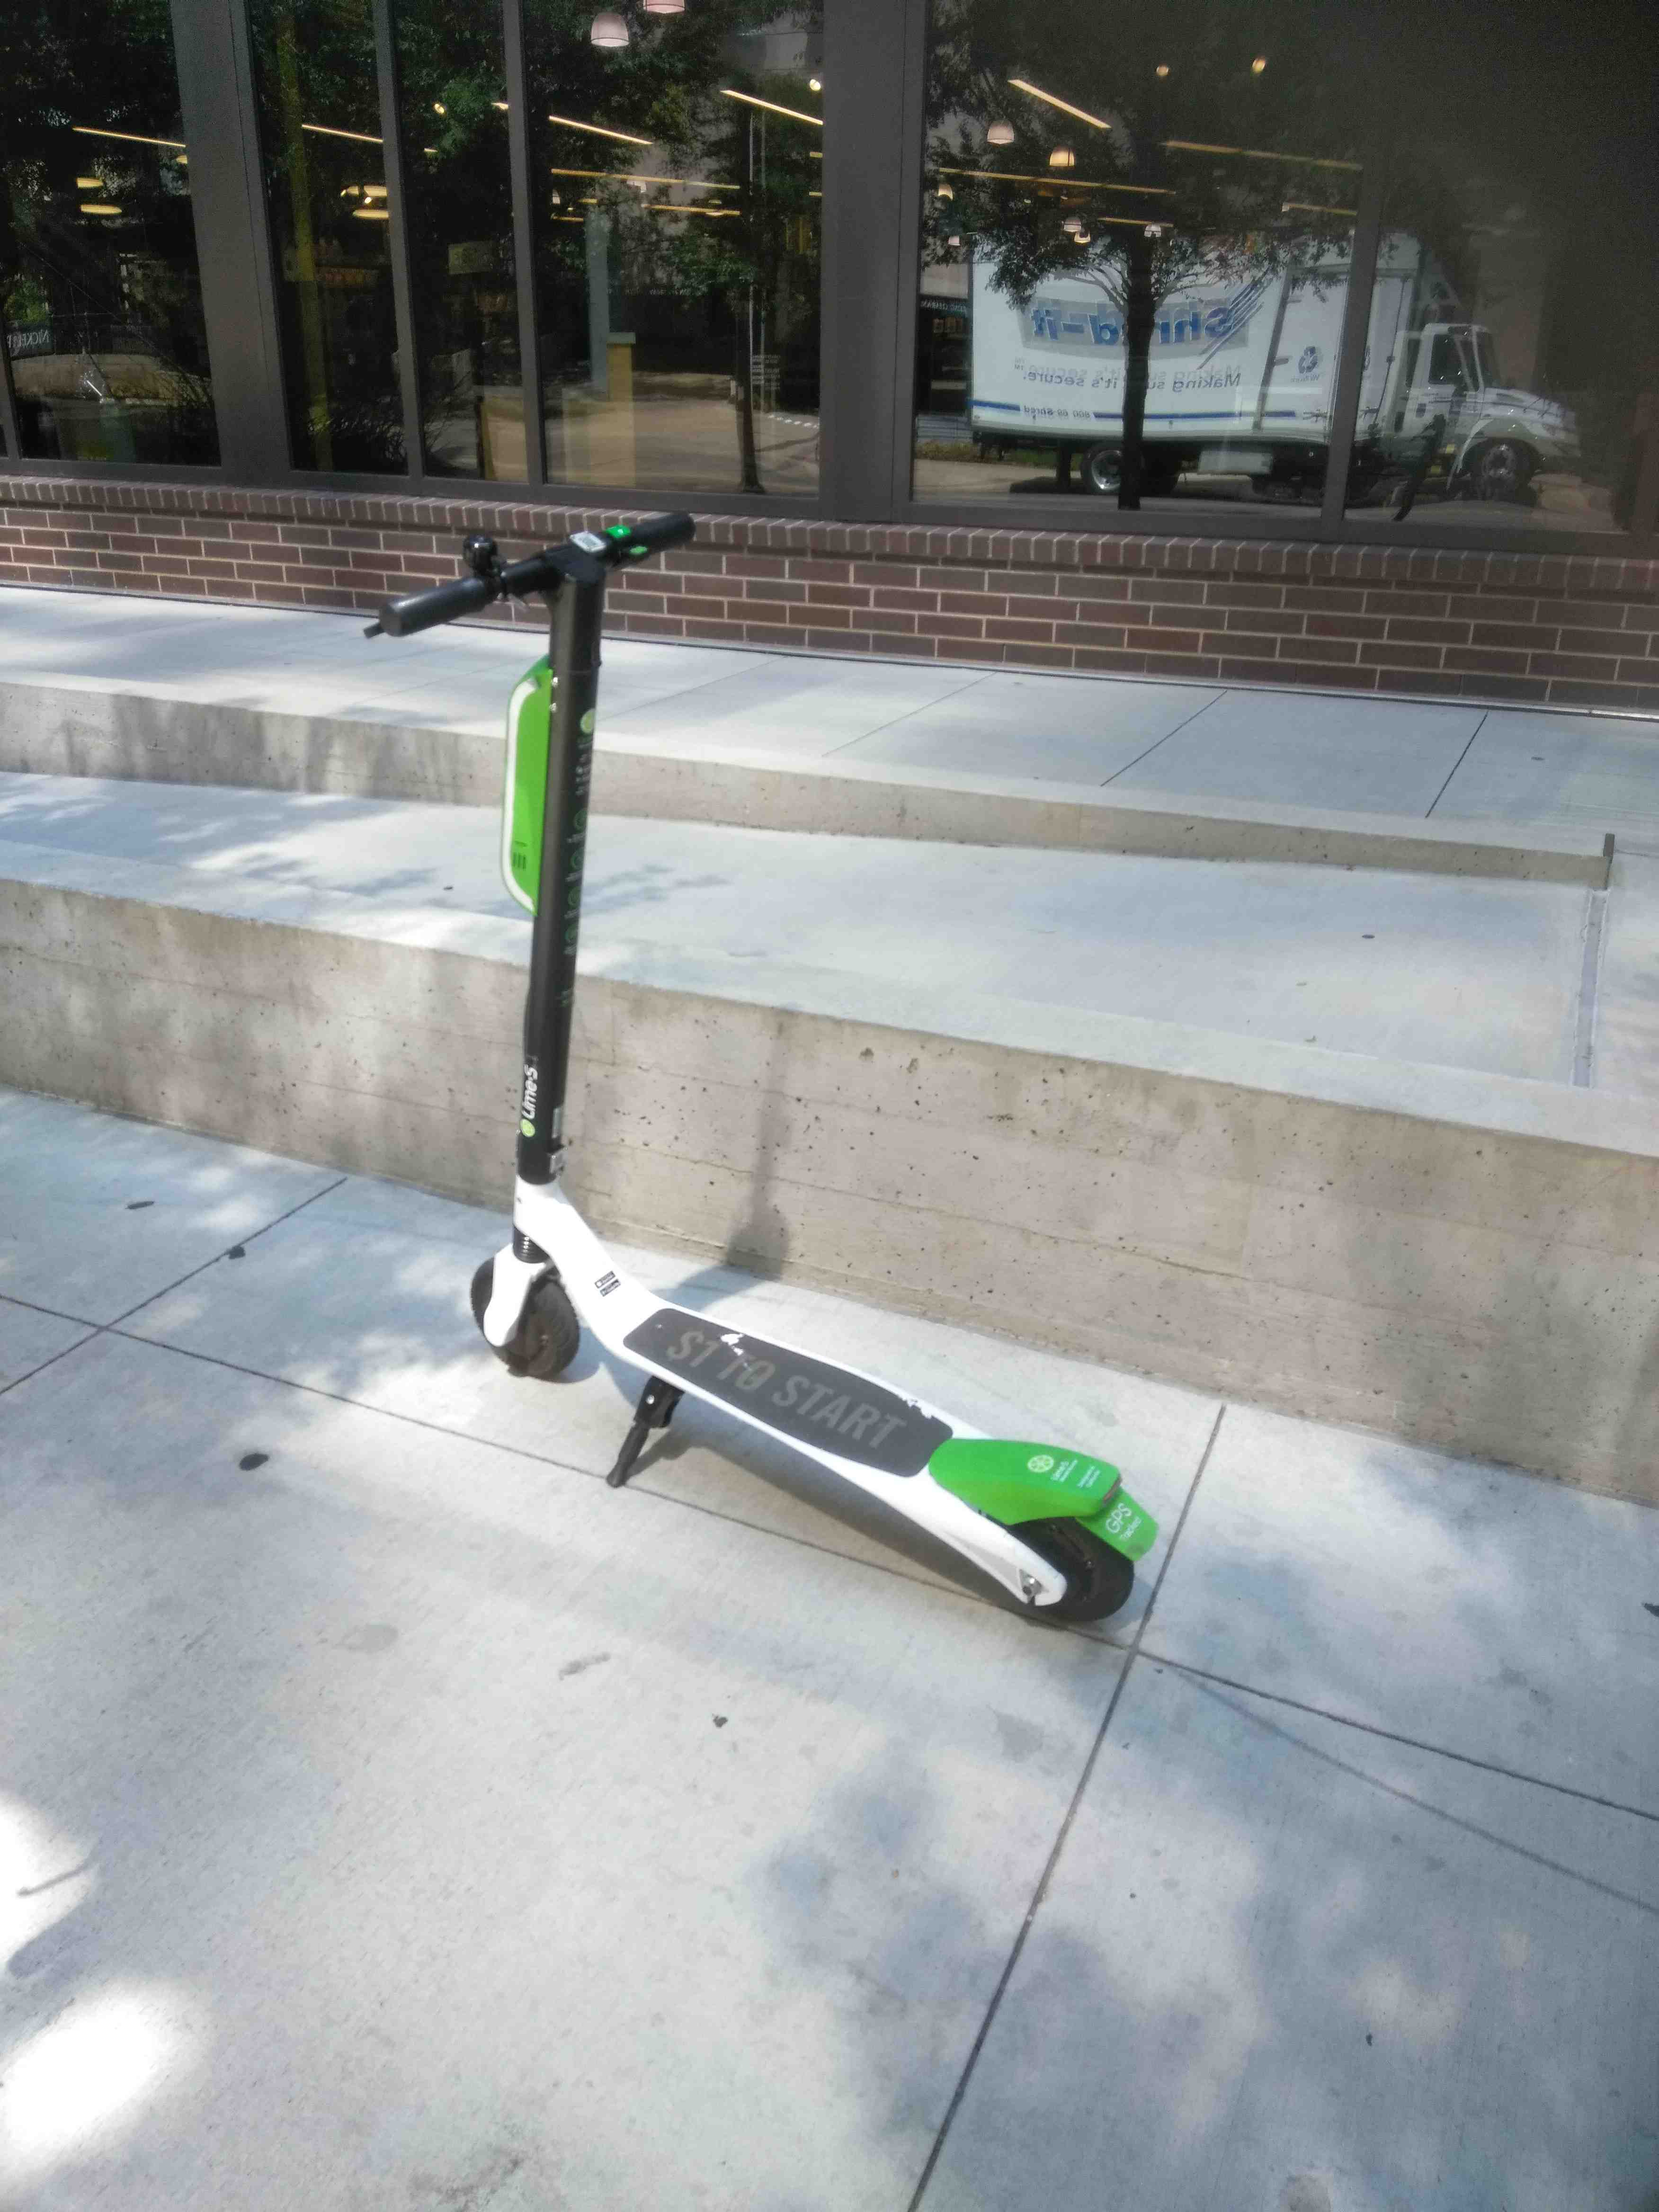scooter: (362, 462, 1187, 1667)
